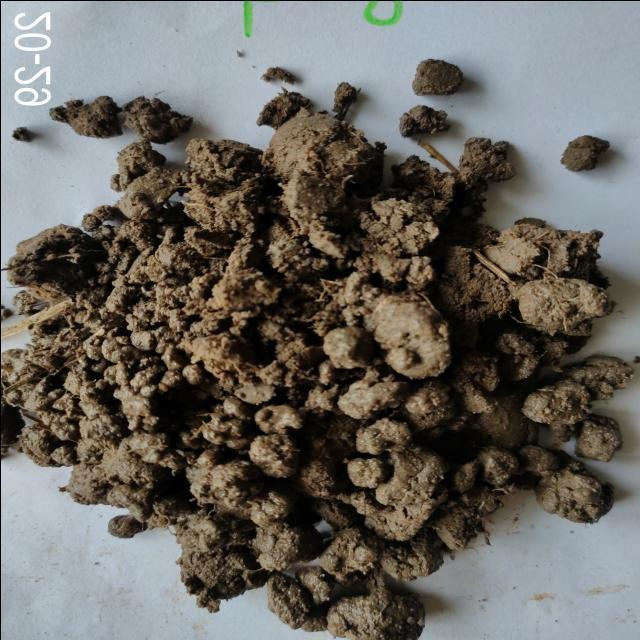soil: (84, 205, 462, 505)
